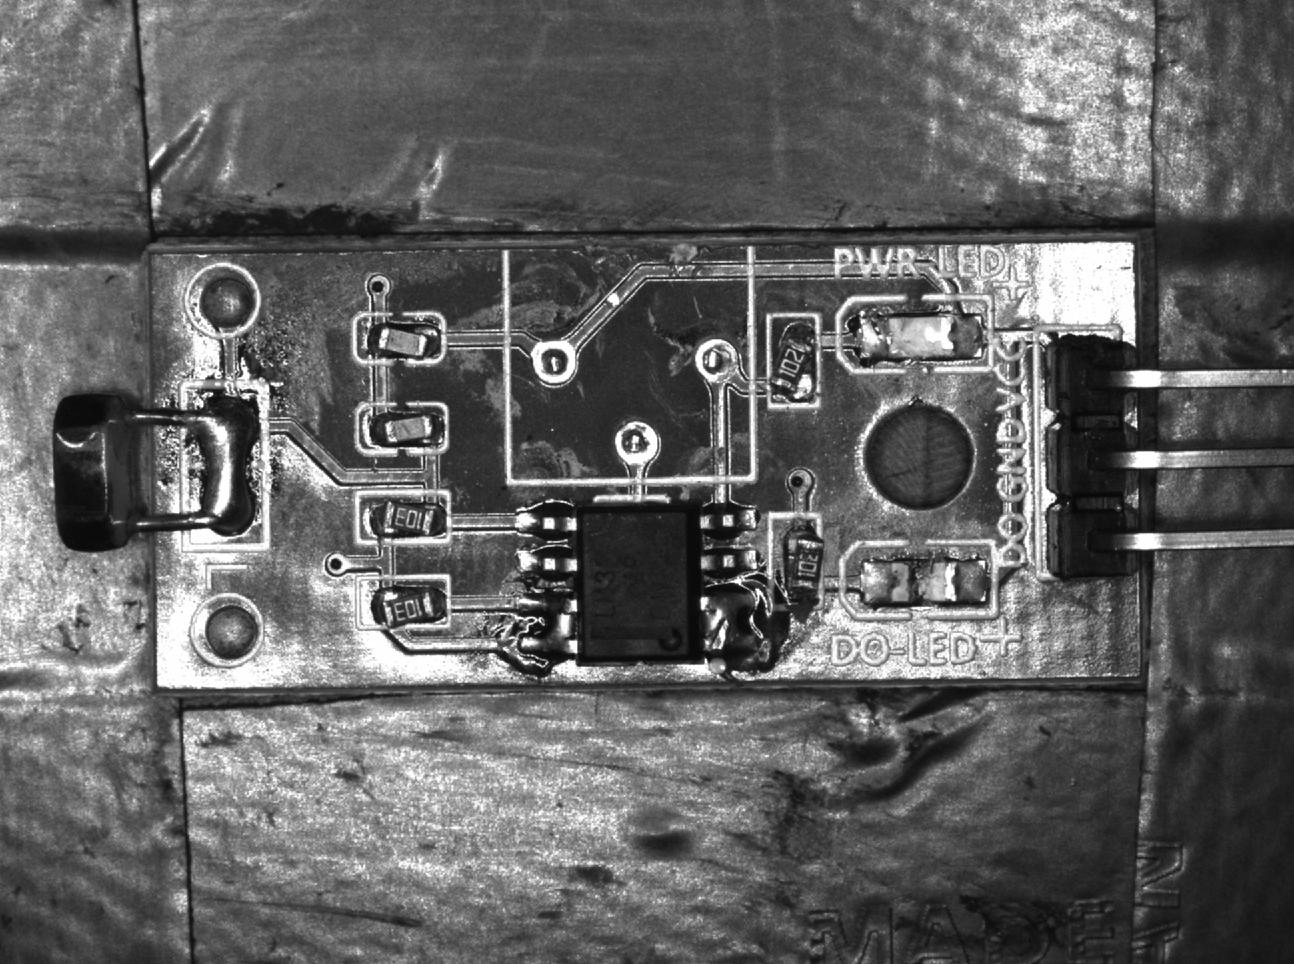bridge: (182, 382, 269, 549), (509, 589, 582, 667), (700, 584, 769, 663)
lifted: (353, 489, 450, 549), (356, 400, 451, 458), (769, 511, 825, 607), (767, 317, 820, 409), (355, 578, 450, 629), (355, 314, 444, 364)
